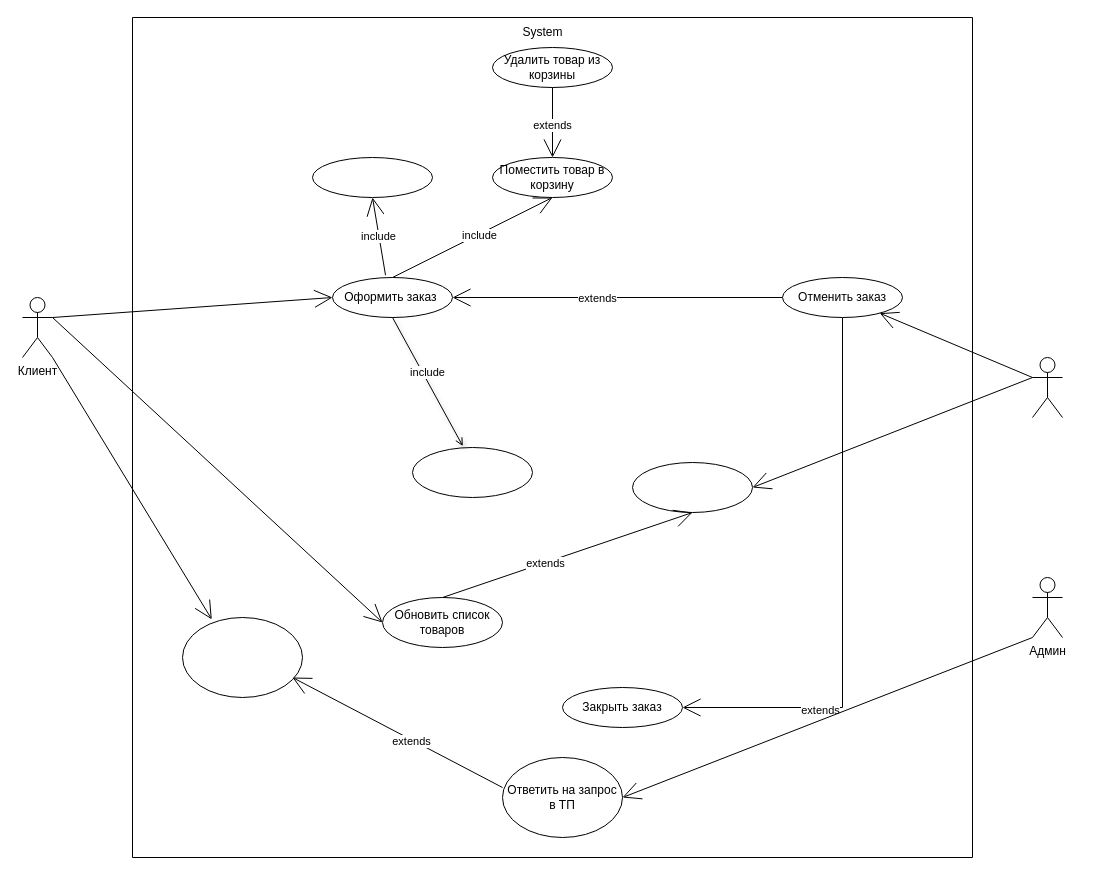
Some shapes in this 1099 by 875 pixel diagram are drawn without their labels. The centre of each missing label's shape, as x and y in pixels:
Выбор пункта выдачи заказов: the point at 472,472
Выбрать товар: the point at 372,177
Отобразить список товаров: the point at 692,487
Приложение: the point at 1047,387
Создать запрос в ТП: the point at 242,657
